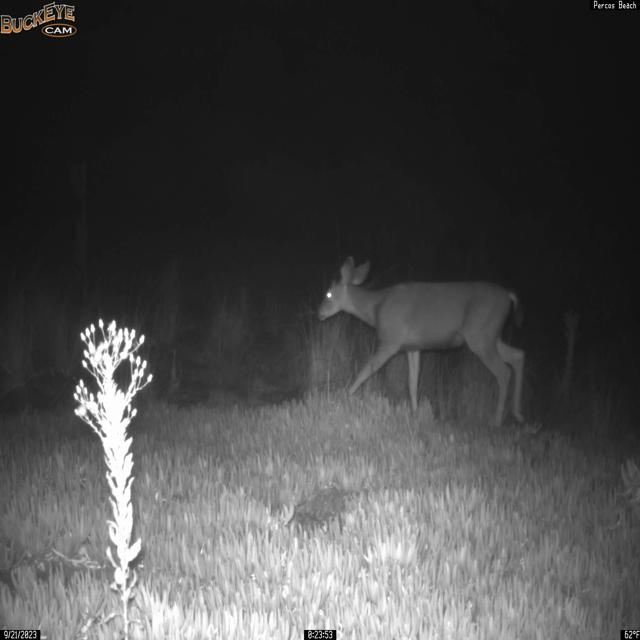deer: (316, 255, 527, 429)
